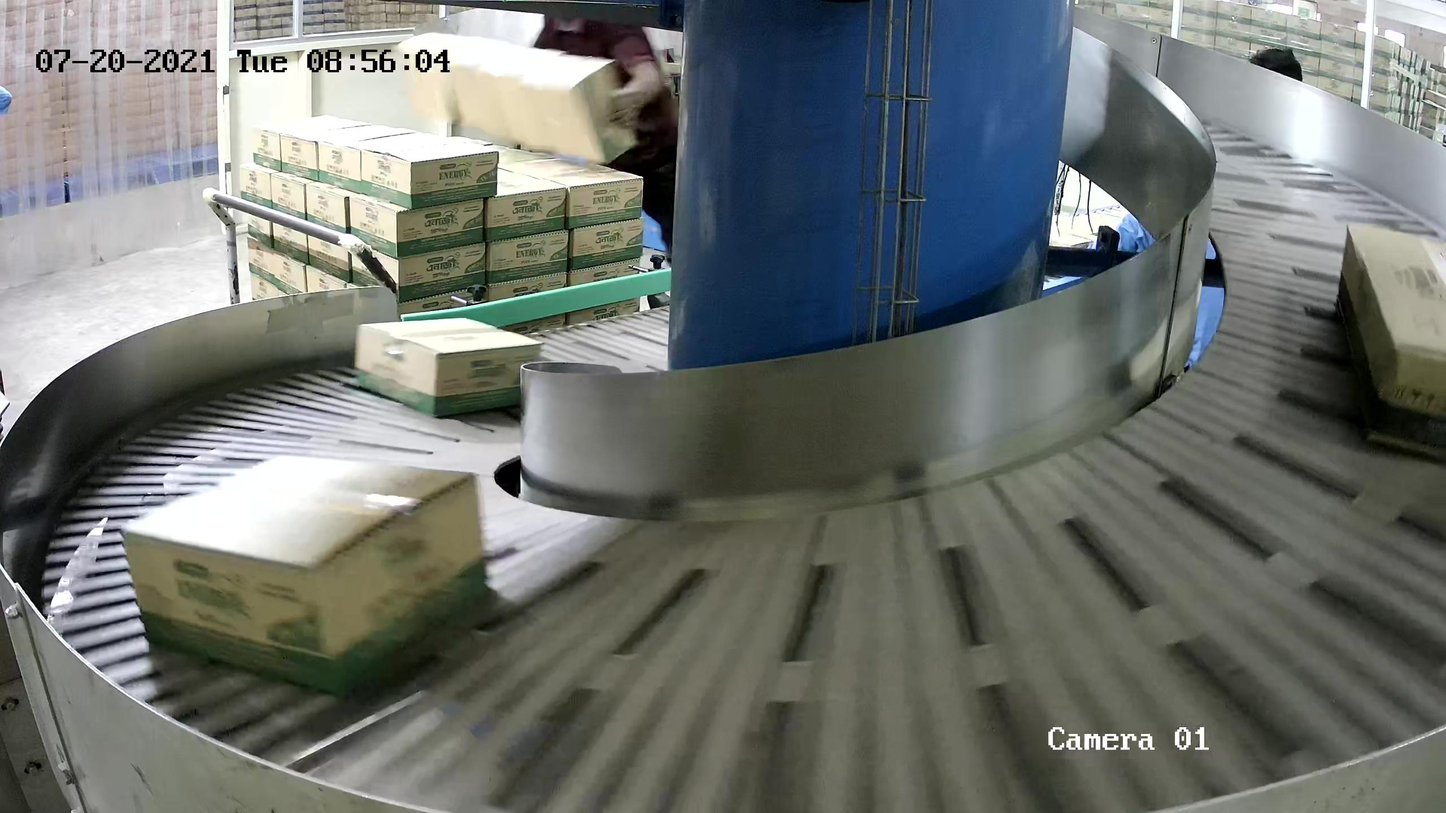Box: (118, 454, 490, 707), (1334, 222, 1446, 473), (355, 317, 544, 420)
